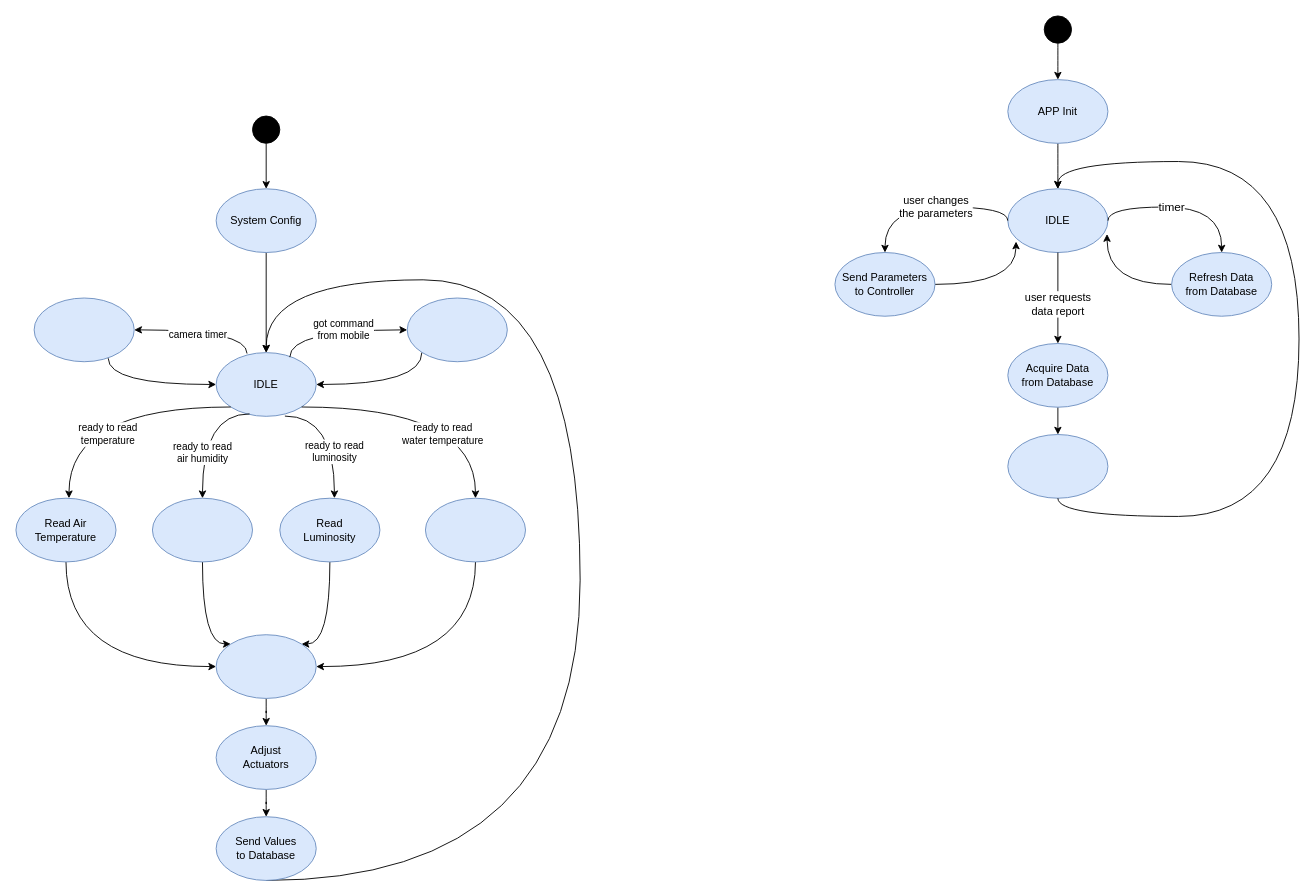
This 1315x896 diagram has some shape labels left out. The shapes that lost their labels are listed below. From the top down, each one's box as (x1, y1, x2, y2) in pixels, then its label:
(33, 297, 134, 362): Take and Save Picture
(406, 297, 507, 362): Change Parameters
(1007, 434, 1108, 498): Generate Report
(152, 497, 253, 562): Read Air Humidity
(425, 497, 526, 562): Read Water Temperature
(215, 634, 316, 698): Process Data
